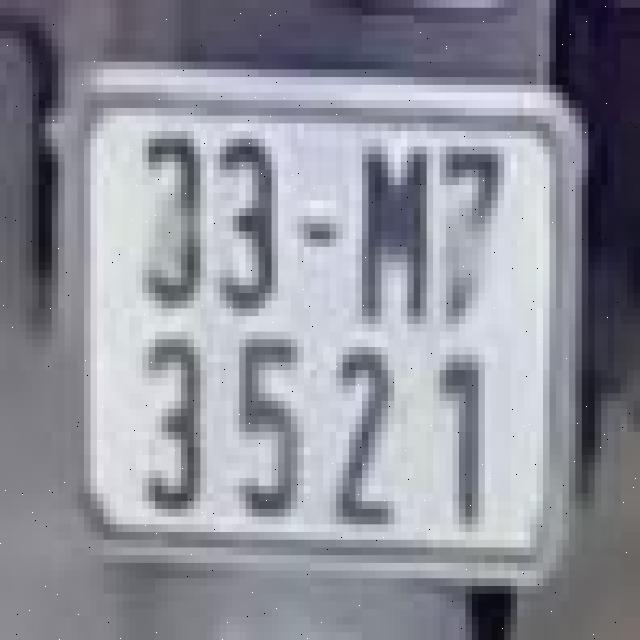1: (423, 339, 508, 540)
2: (317, 339, 401, 532)
3: (129, 320, 207, 528), (133, 120, 210, 312), (213, 131, 284, 324)
5: (230, 320, 307, 528)
7: (433, 127, 517, 336)
M: (343, 116, 433, 332)
